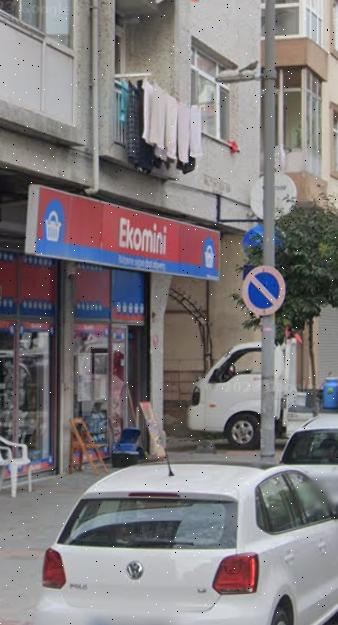nopark: (244, 268, 287, 315)
